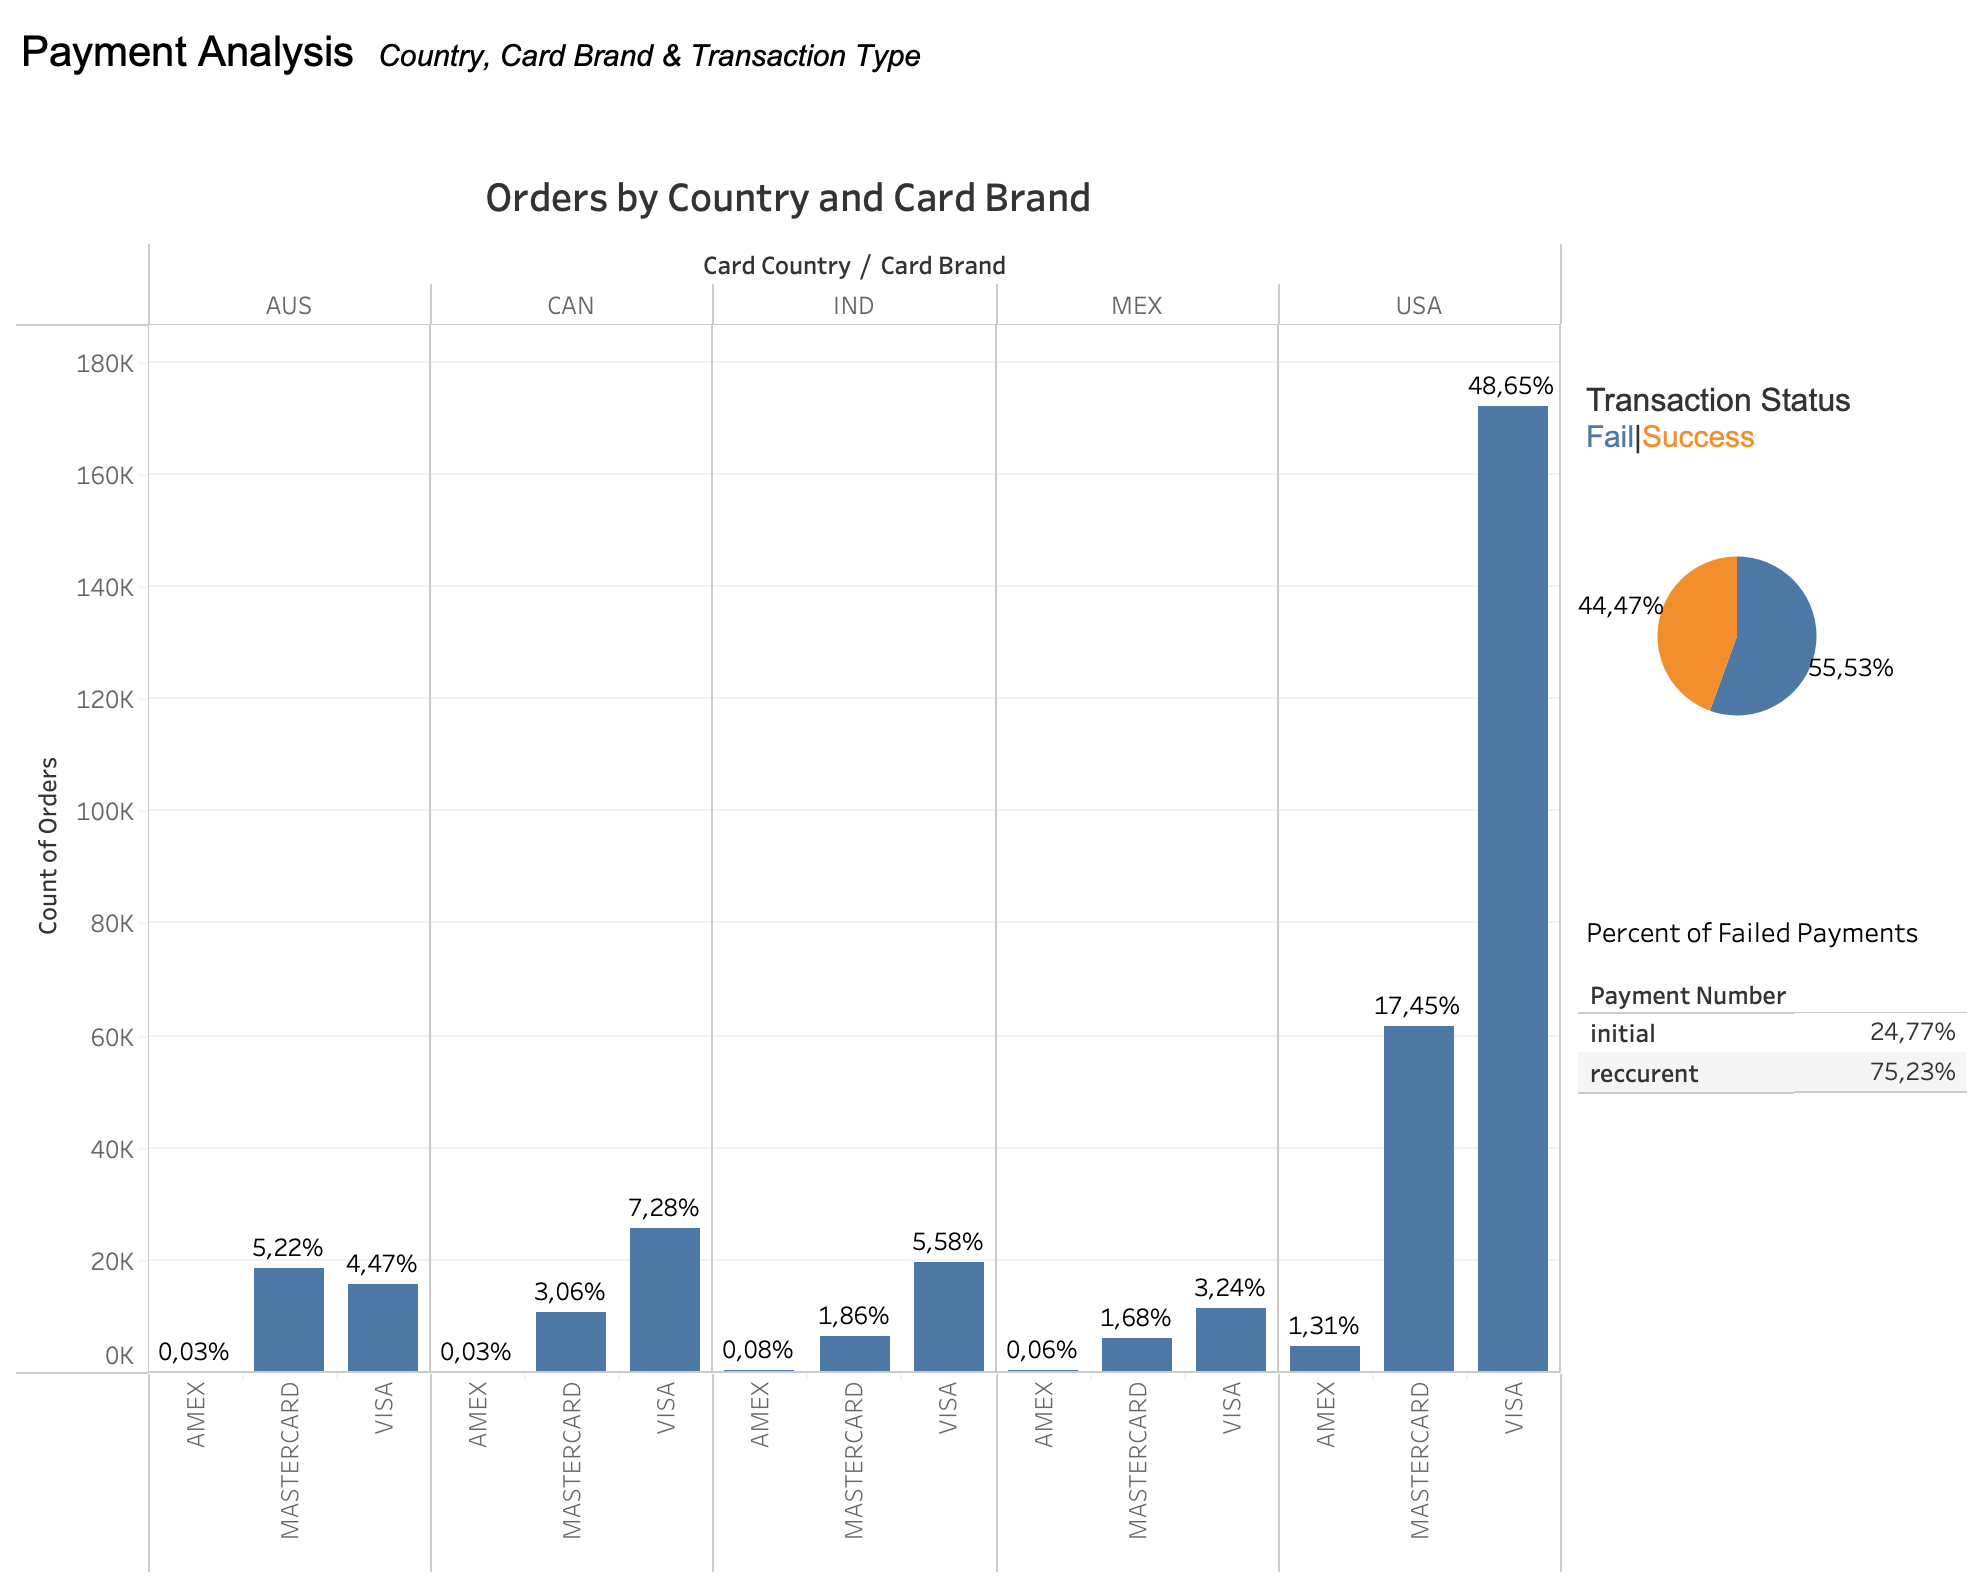

Layout of this report page (visuals, bound fields, positions):
{"tool":"tableau","page":{"name":"Dashboard 1","canvas":[1000,800],"ordinal":0},"visuals":[{"type":"worksheet","title":"Country/Brands","mark":"Bar","rows":["order_id"],"cols":["card_country","card_brand"],"box":[8,8,578,784]},{"type":"worksheet","title":"Transaction Status","mark":"Pie","box":[586,8,246,261.3]},{"type":"legend","title":"Transaction Status","param":"[federated.0kjlbqx1pnvwfs15il0us0tw2vai].[none:transaction_status:nk]","box":[832,8,160,66]},{"type":"worksheet","title":"Failed Payments","mark":"Automatic","rows":["payment_number"],"box":[586,269.3,246,261.3]}]}

Visuals, with their boxes in screenshot pixels (x1, y1, x2, y2), scaled from the page's 1000x800 canvas onto the 1986x1588 screenshot:
"Country/Brands" worksheet (Bar marks): bbox=(16, 16, 1164, 1572)
"Transaction Status" worksheet (Pie marks): bbox=(1164, 16, 1652, 535)
"Transaction Status" legend: bbox=(1652, 16, 1970, 147)
"Failed Payments" worksheet: bbox=(1164, 535, 1652, 1053)
